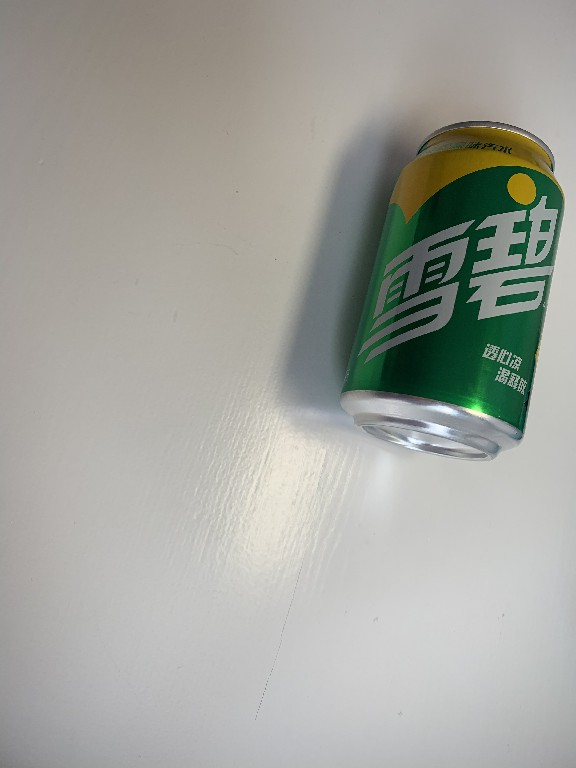can: (335, 118, 568, 461)
